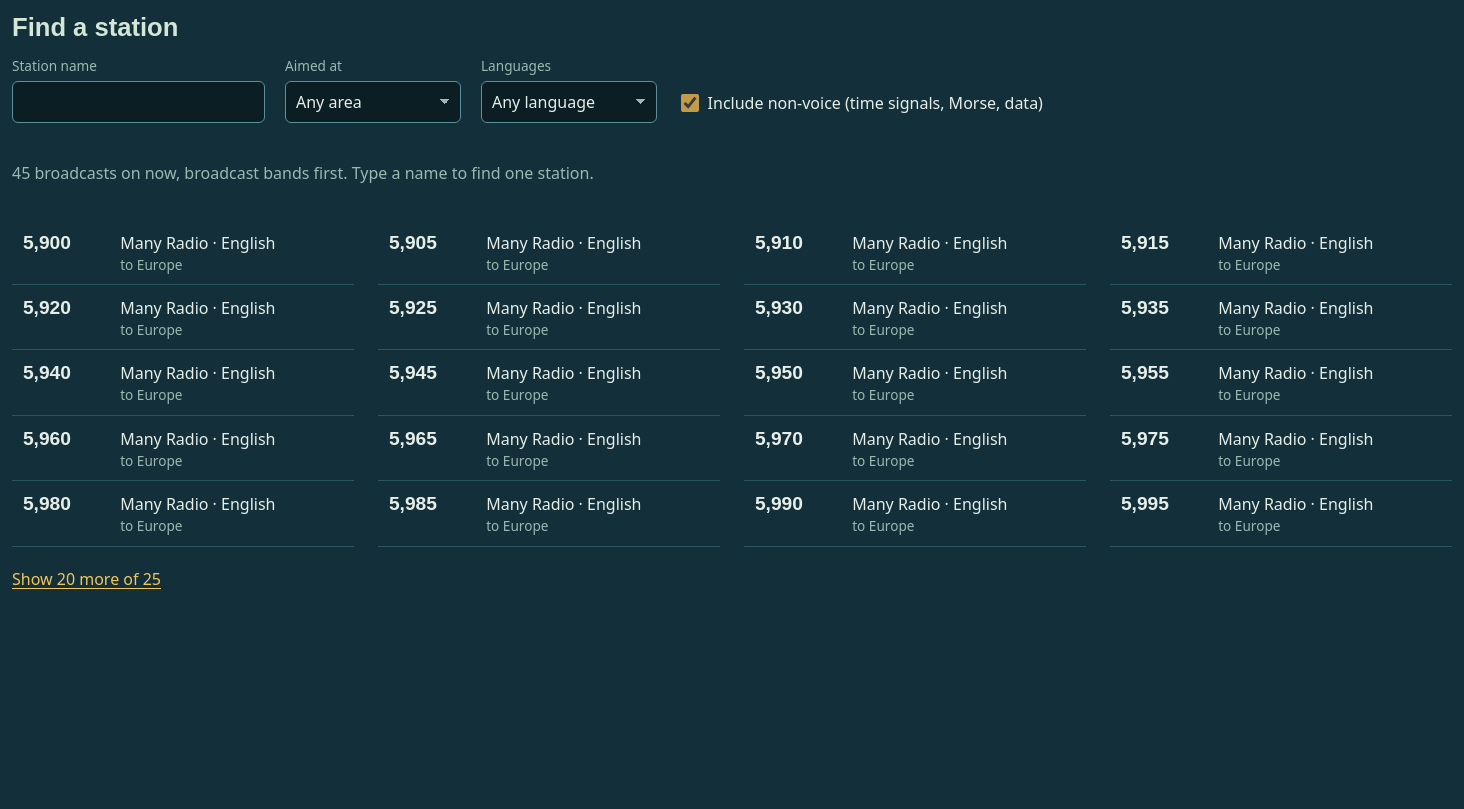
Test: StationSearch › starts the list over when a filter changes
Click the button "Show 20 more of 25".
click(86, 582)  # box [12,566,161,598]
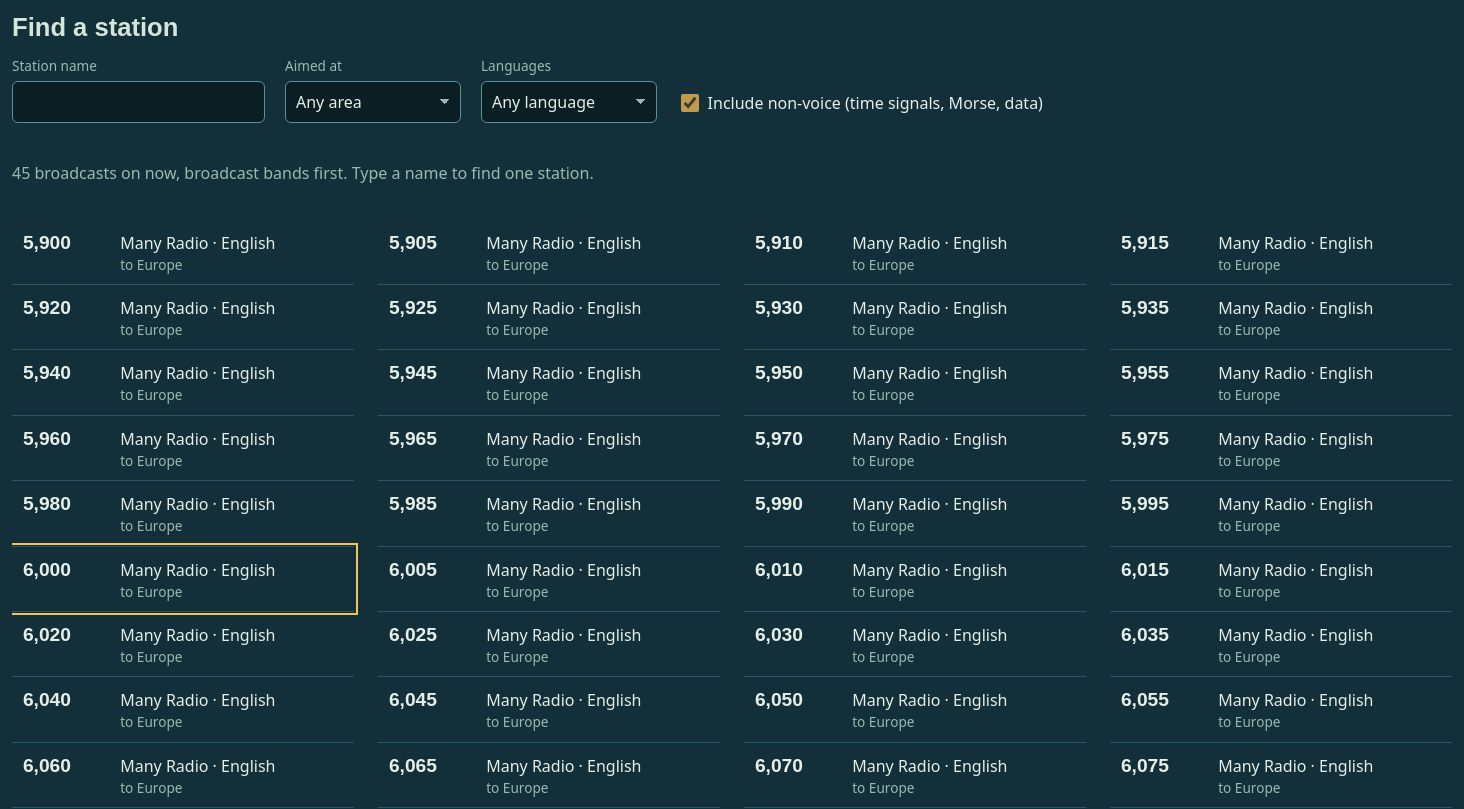
Click the button with aria-label "5,900 kHz".
click(183, 252)  # box [12,220,354,284]
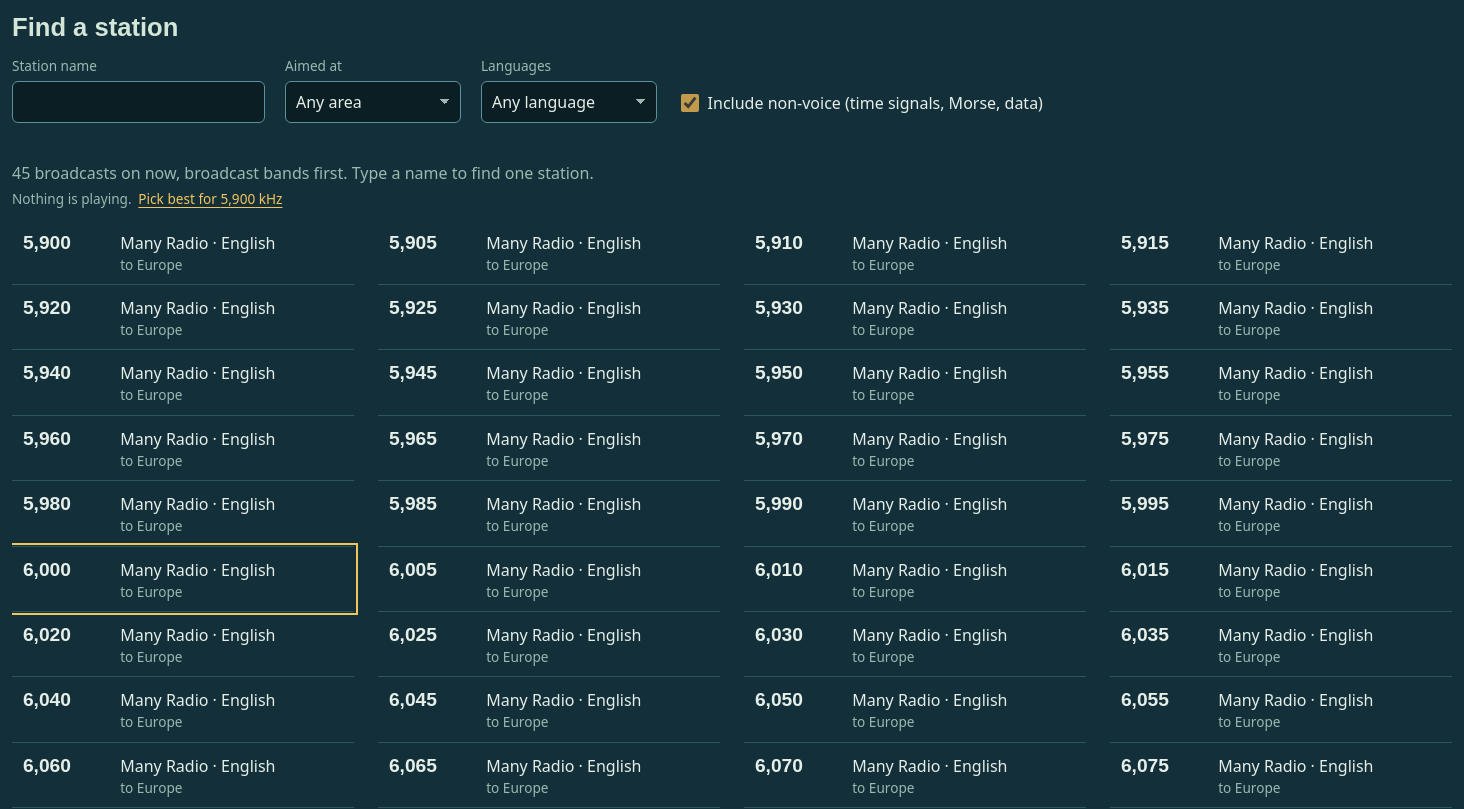
Expected: the text "Nothing is playing." is shown, [12,189,132,208]
Select "Europe" in the dropdown labelled "Aimed at" at coordinates (373, 102), box [285,81,461,123]
Wait 500 ms
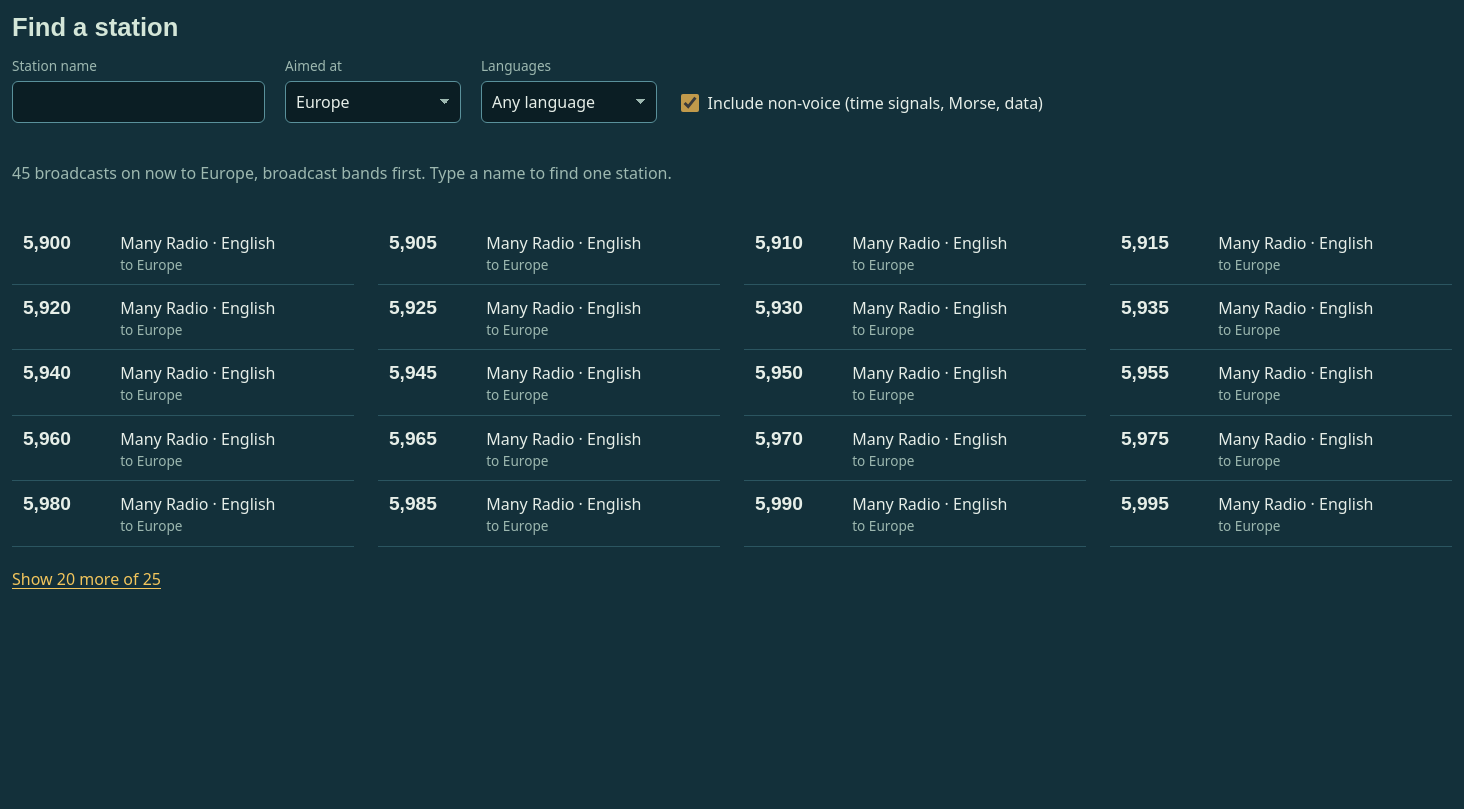
Expected: the text "Nothing is playing." is gone
